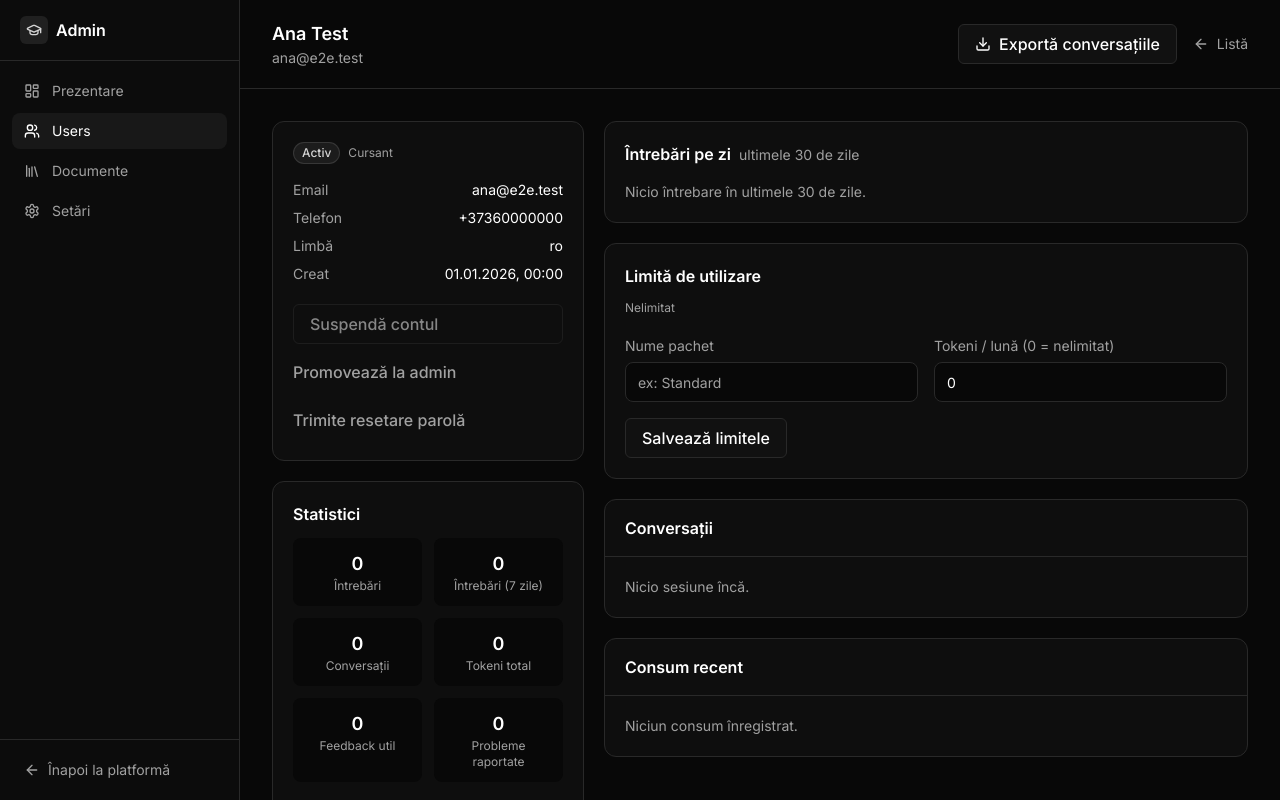
Test: ADMIN-05 User detail › ADMIN-05 action failed (S6): suspend refused → “Ultimul administrator activ nu poate fi suspendat sau retrogradat.” next to “Suspendă contul”
Click the button "Suspendă contul" at (428, 324), box [293,304,563,344]
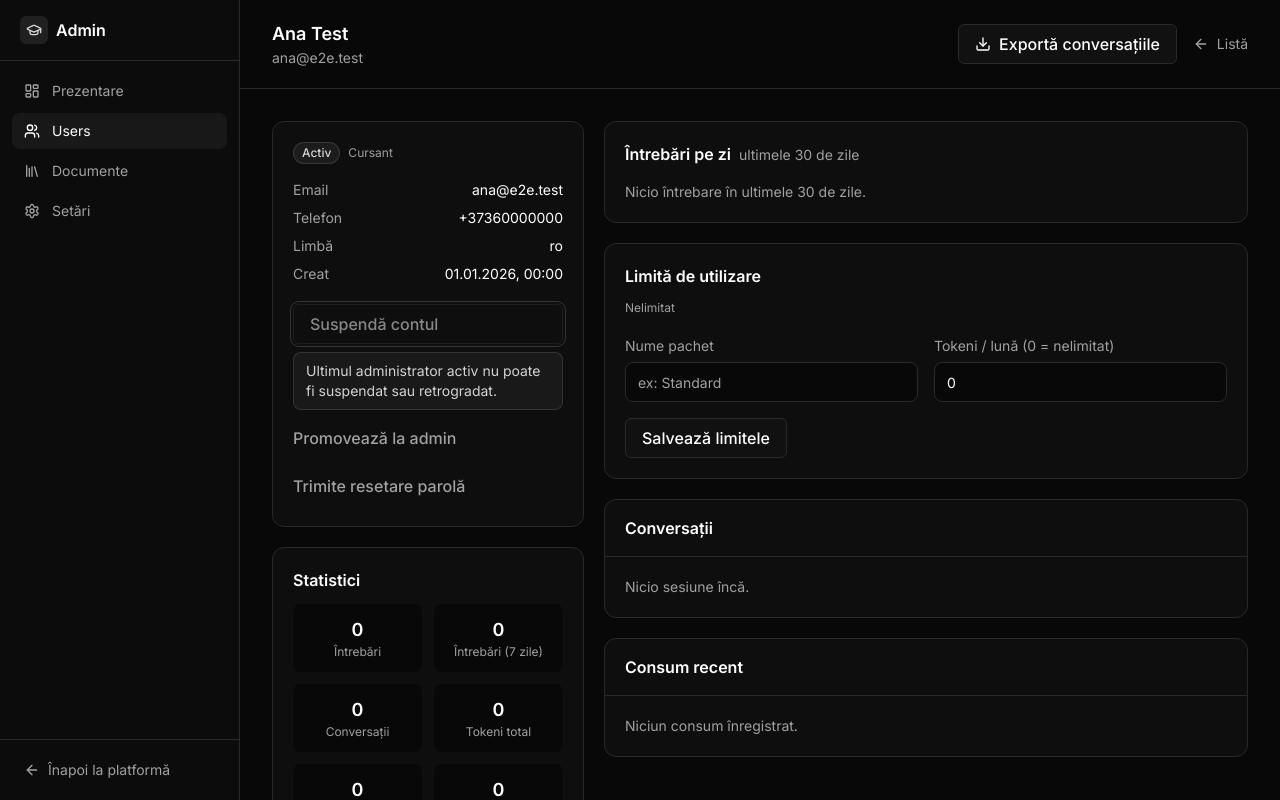
Expected: the message reads "Ultimul administrator activ nu poate fi suspendat sau retrogradat.", [306,362,540,399]
